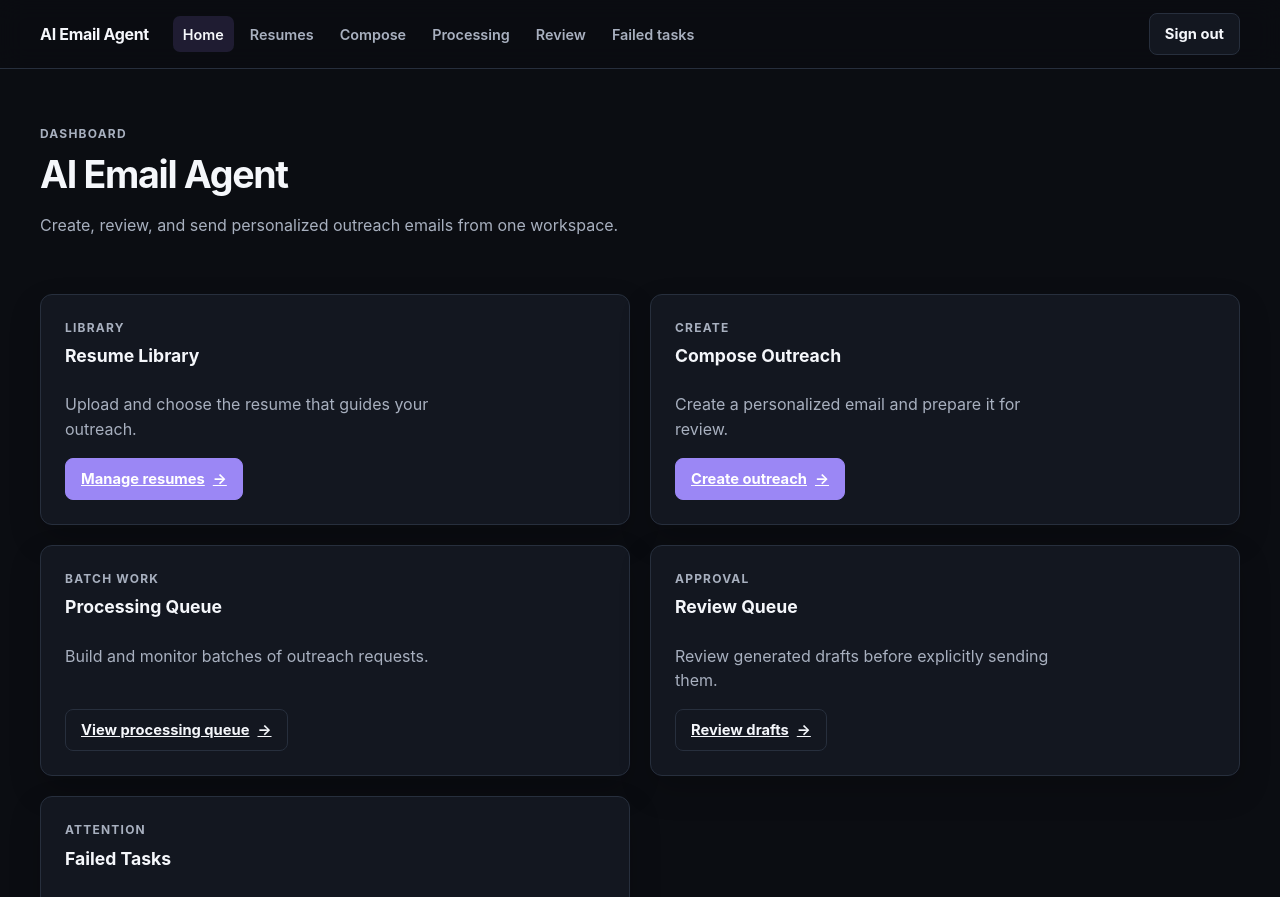
App › signs out from the dashboard
The width and height of the screenshot is (1280, 897).
Click the button "Sign out".
click(1194, 34)  # box [1149,13,1240,55]
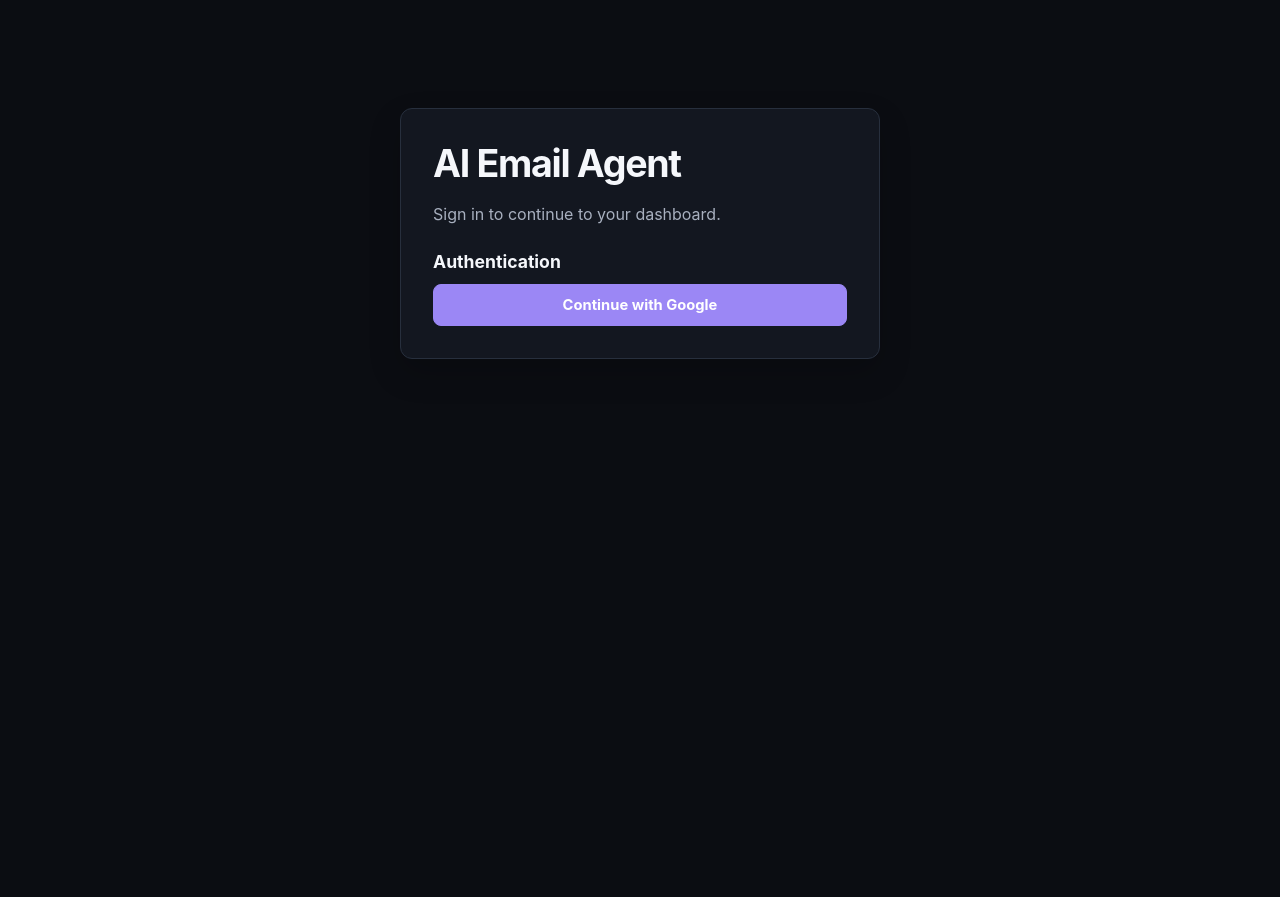
Now the button "Continue with Google" is shown, box [433,284,847,326]
